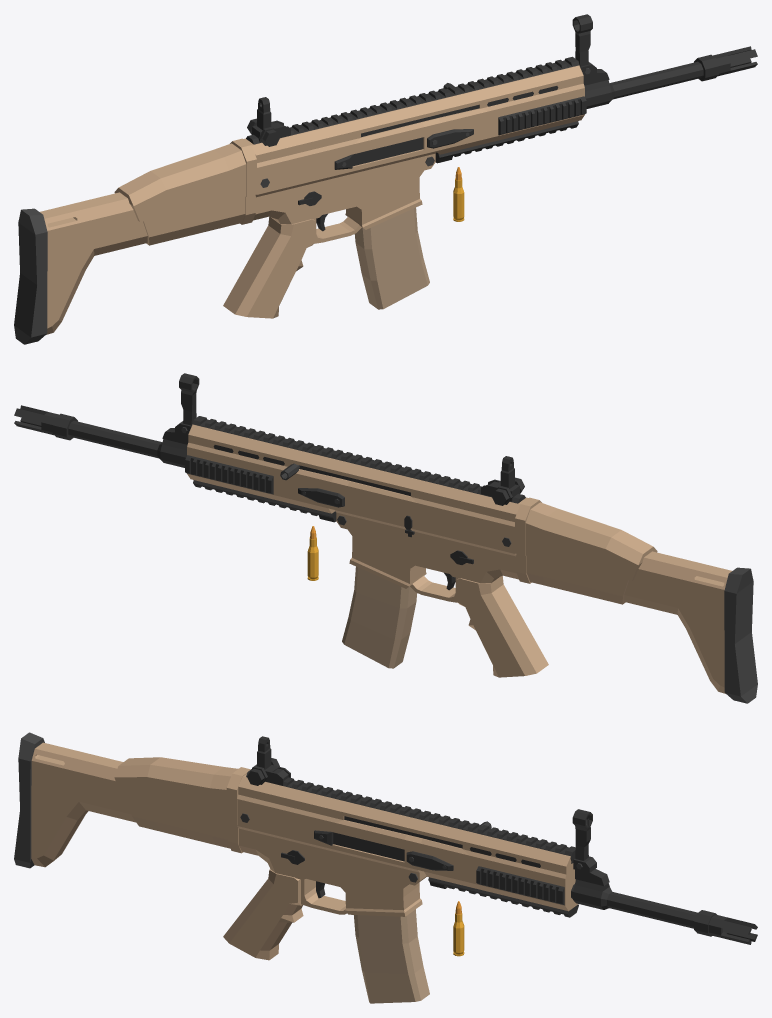
Rendered from SCAR-L.fbx.
3 renders of one model, top to bottom at view 1: azimuth 30°, elevation 25°; view 2: azimuth 150°, elevation 25°; view 3: azimuth 330°, elevation 25°, orthographic.
Visible parts, largest first — view 1: SCAR-L, Mag; view 2: SCAR-L, Mag; view 3: SCAR-L, Mag, Bullet.
Boxes of the visible parts, <box> form: SCAR-L: <box>14,14,757,344</box>; Mag: <box>354,207,429,309</box>; SCAR-L: <box>14,373,757,703</box>; Mag: <box>342,566,417,668</box>; SCAR-L: <box>14,732,757,960</box>; Mag: <box>354,909,429,1003</box>; Bullet: <box>453,901,464,956</box>.
Bounding box in the file's own units: 952 × 296 × 72.22.
1 material, 1 textured.
